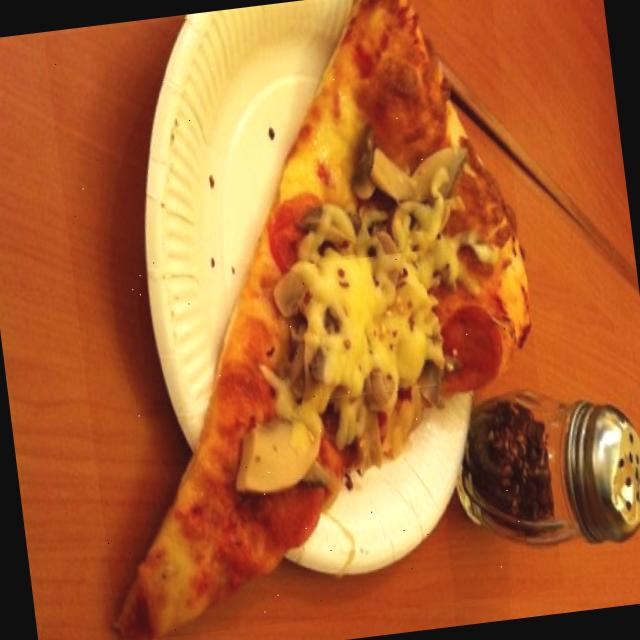cheese: (302, 250, 436, 400)
pizza: (115, 0, 526, 637)
